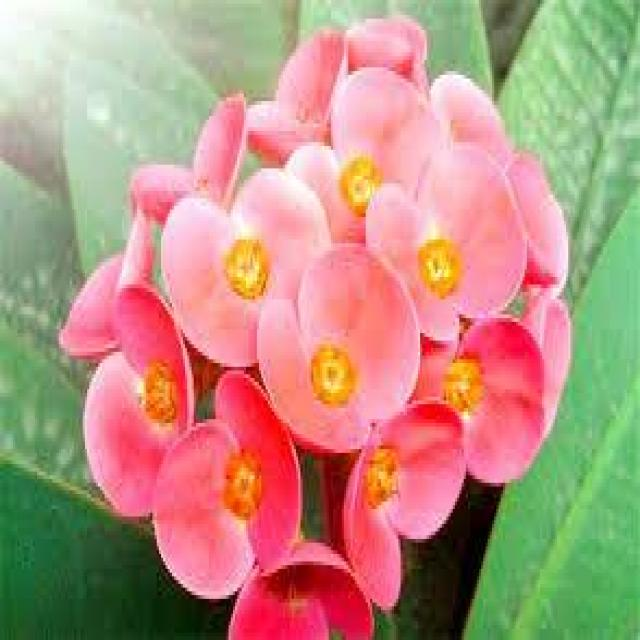organic waste: (132, 144, 376, 380), (246, 228, 451, 479), (271, 52, 478, 296), (130, 374, 310, 592), (358, 142, 537, 337), (333, 382, 477, 588), (72, 309, 202, 522), (414, 294, 546, 492), (223, 526, 378, 638)
